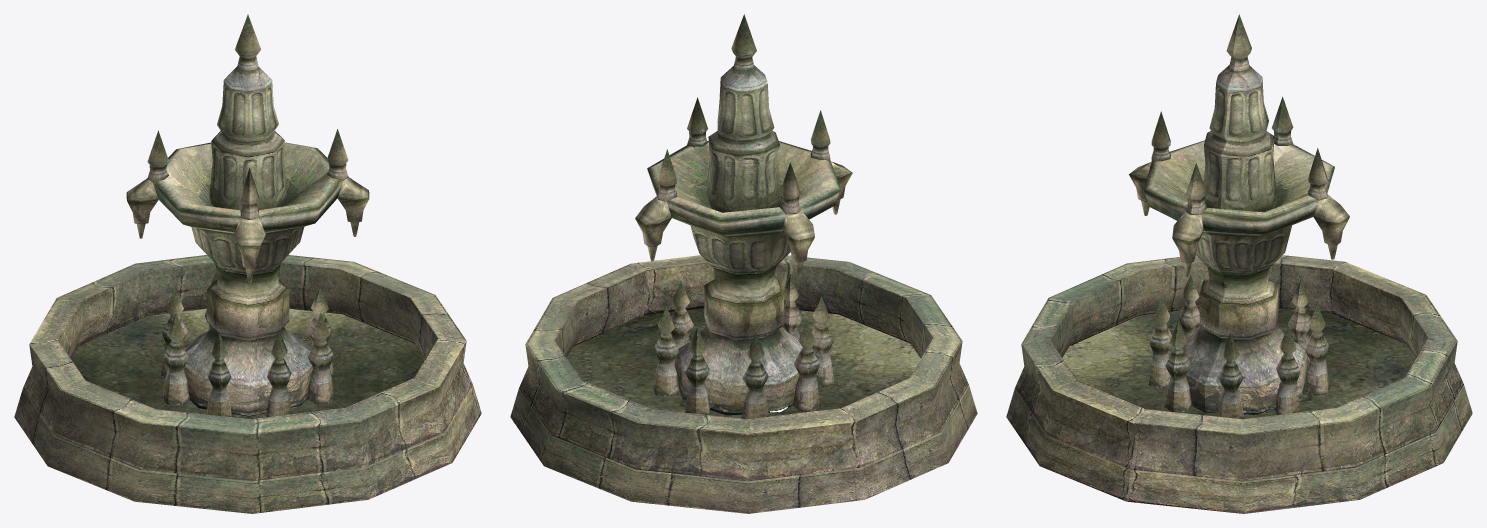
File: PenQuan.FBX
The picture shows the model from 3 angles, left to right: view 1: azimuth 30°, elevation 25°; view 2: azimuth 150°, elevation 25°; view 3: azimuth 270°, elevation 25°; orthographic projection.
Parts seen in each view (by area): view 1: DrawCall_0083; view 2: DrawCall_0083; view 3: DrawCall_0083.
Boxes of the visible parts, x1,y1,x2,y2 form: DrawCall_0083: (14, 14, 481, 513); DrawCall_0083: (510, 14, 977, 513); DrawCall_0083: (1006, 14, 1472, 513).
Bounding box in the file's own units: 4550 × 4309 × 4541.
